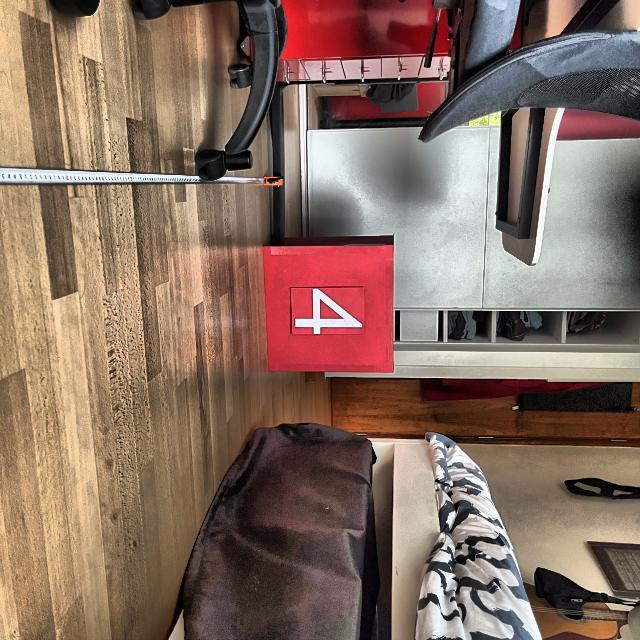four: (294, 287, 364, 336)
red box: (264, 236, 396, 374)
